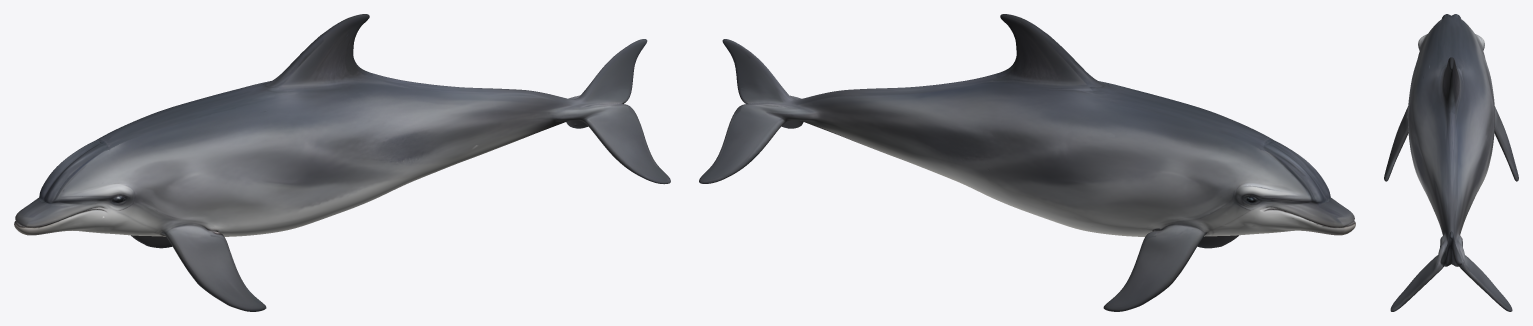
File: dolphin.glb
3 views of the same model, side by side, from view 1: azimuth 30°, elevation 25°; view 2: azimuth 150°, elevation 25°; view 3: azimuth 270°, elevation 25° (orthographic). The views are drawn at different scales.
Visible parts, largest first — view 1: node_0; view 2: node_0; view 3: node_0.
Boxes of the visible parts, x1,y1,x2,y2 form: node_0: (14,14,670,311); node_0: (699,14,1355,311); node_0: (1384,14,1518,311).
Size of the model in its own units: 1.19 by 0.4114 by 0.2963.
1 material, 1 textured.
